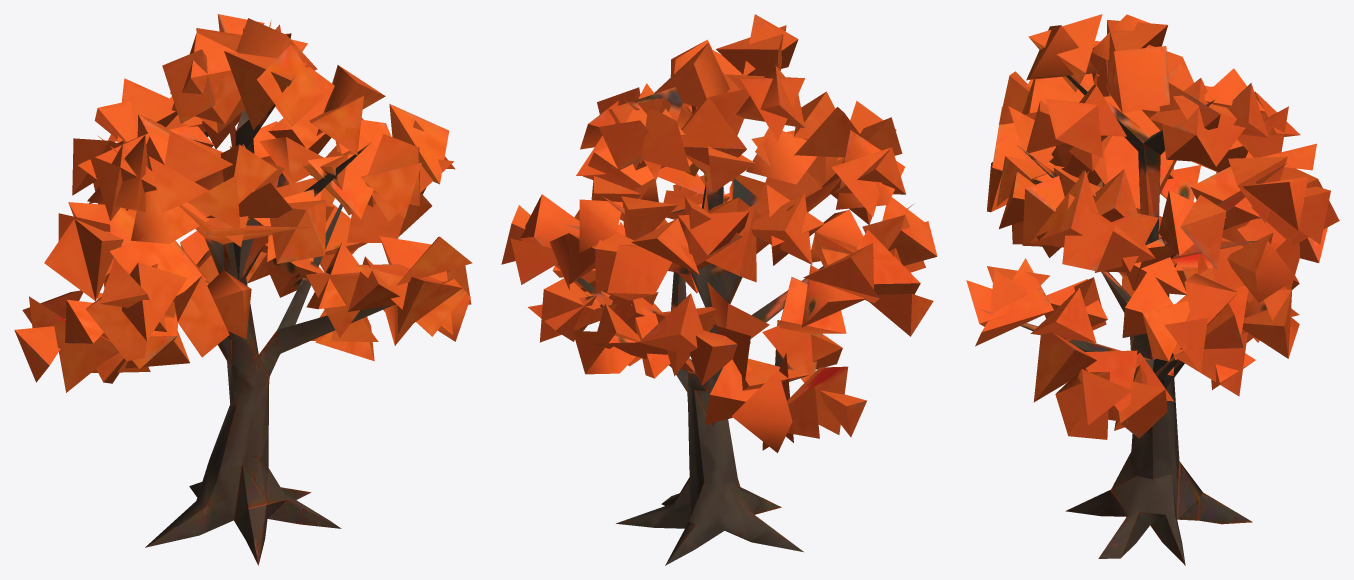
The model's file is tree-autumn-ember.glb.
The picture shows the model from 3 angles, left to right: view 1: azimuth 30°, elevation 25°; view 2: azimuth 150°, elevation 25°; view 3: azimuth 270°, elevation 25°; orthographic projection. The views are drawn at different scales.
Visible parts, largest first — view 1: mesh_node; view 2: mesh_node; view 3: mesh_node.
Boxes of the visible parts, x1=… form: mesh_node: x1=14, y1=14, x2=472, y2=565; mesh_node: x1=501, y1=14, x2=937, y2=565; mesh_node: x1=966, y1=14, x2=1339, y2=565.
Bounding box in the file's own units: 0.7988 × 1 × 0.6757.
Materials: 1 (1 with a texture image).
